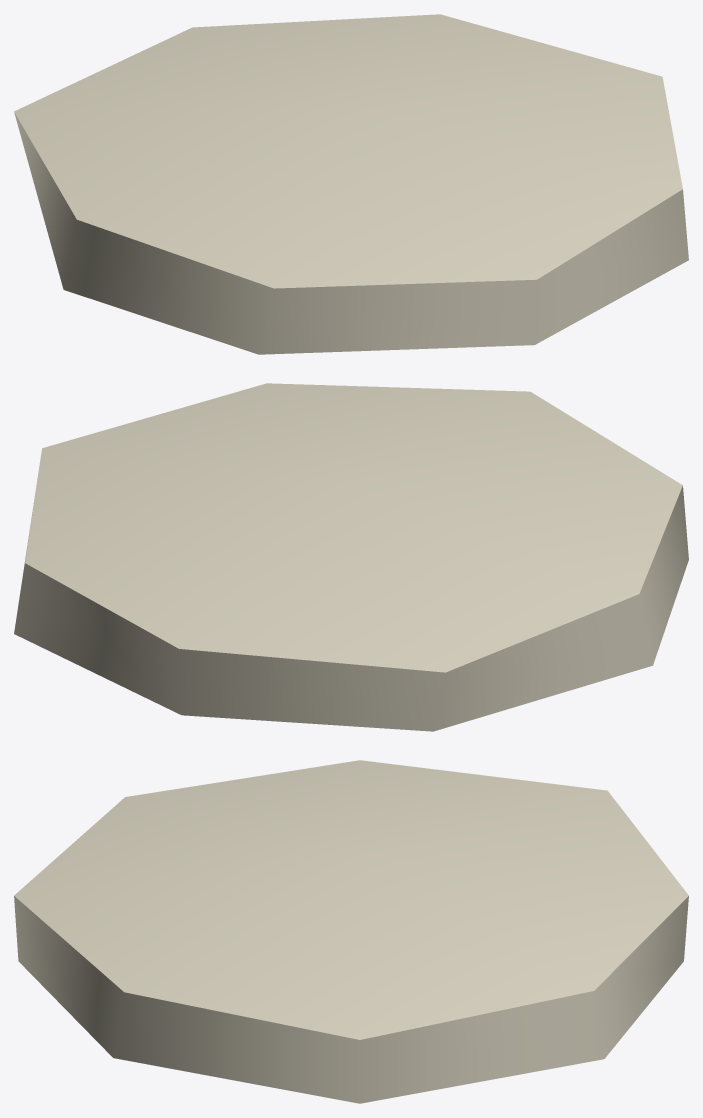
The model's file is dune.glb.
The picture shows the model from 3 angles, top to bottom: view 1: azimuth 30°, elevation 25°; view 2: azimuth 150°, elevation 25°; view 3: azimuth 270°, elevation 25°; orthographic projection. The views are drawn at different scales.
Parts seen in each view (by area): view 1: dune; view 2: dune; view 3: dune.
Boxes of the visible parts, left/top/right/bottom form: dune: left=14, top=14, right=688, bottom=354; dune: left=14, top=383, right=688, bottom=731; dune: left=14, top=760, right=688, bottom=1103.
Bounding box in the file's own units: 0.4198 × 0.0713 × 0.4184.
